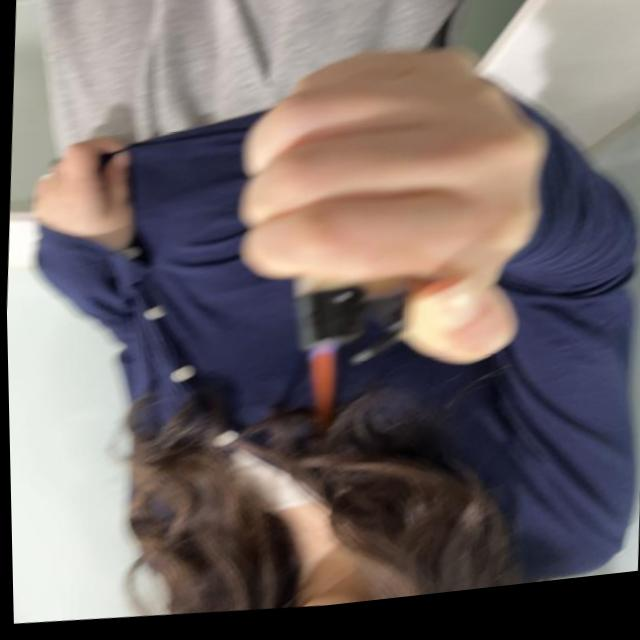Fire: (297, 345, 339, 438)
